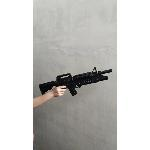Senapan: (38, 68, 116, 100)
